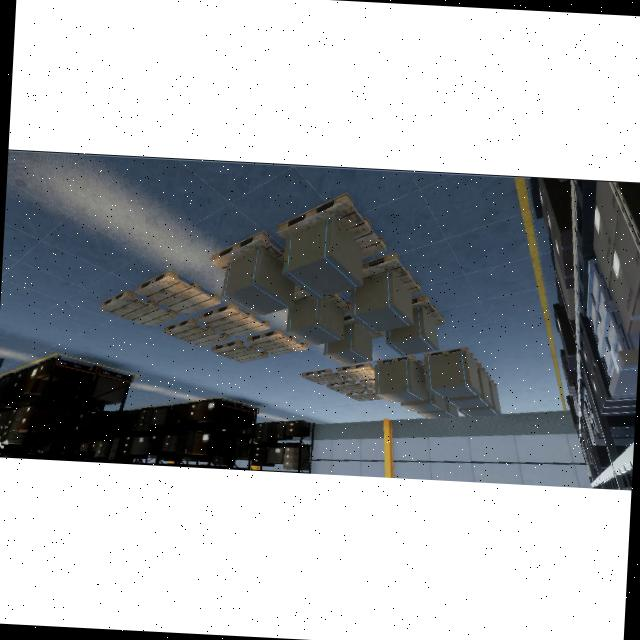wooden_pallet: (277, 192, 387, 259), (136, 269, 221, 316), (209, 230, 286, 271), (99, 290, 178, 328), (363, 252, 423, 295), (198, 303, 270, 337), (163, 318, 229, 348), (246, 330, 309, 356), (211, 340, 269, 364), (412, 294, 446, 326), (424, 347, 478, 365), (302, 368, 348, 385), (376, 356, 425, 371), (337, 363, 375, 381), (326, 380, 369, 394), (346, 391, 383, 402)
